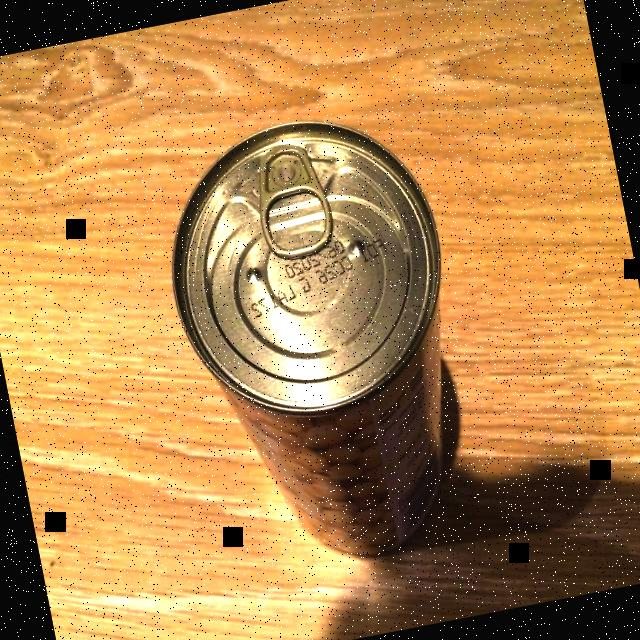can: (145, 96, 500, 584)
